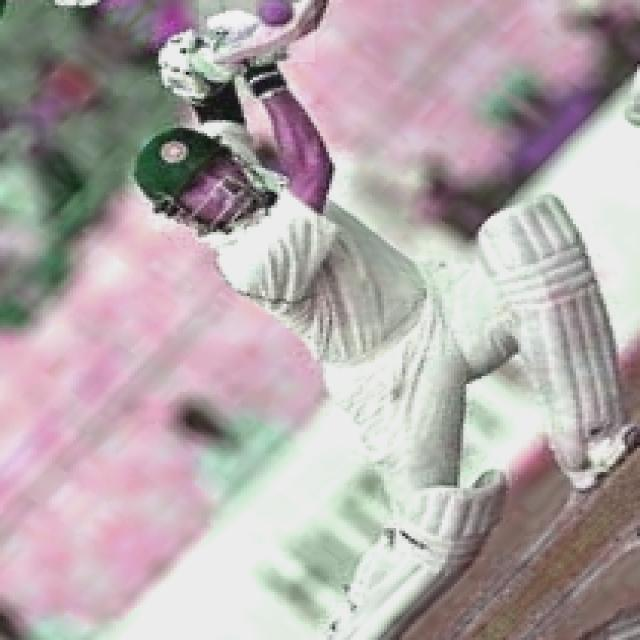bat: (195, 0, 328, 59)
toe: (296, 0, 329, 33)
